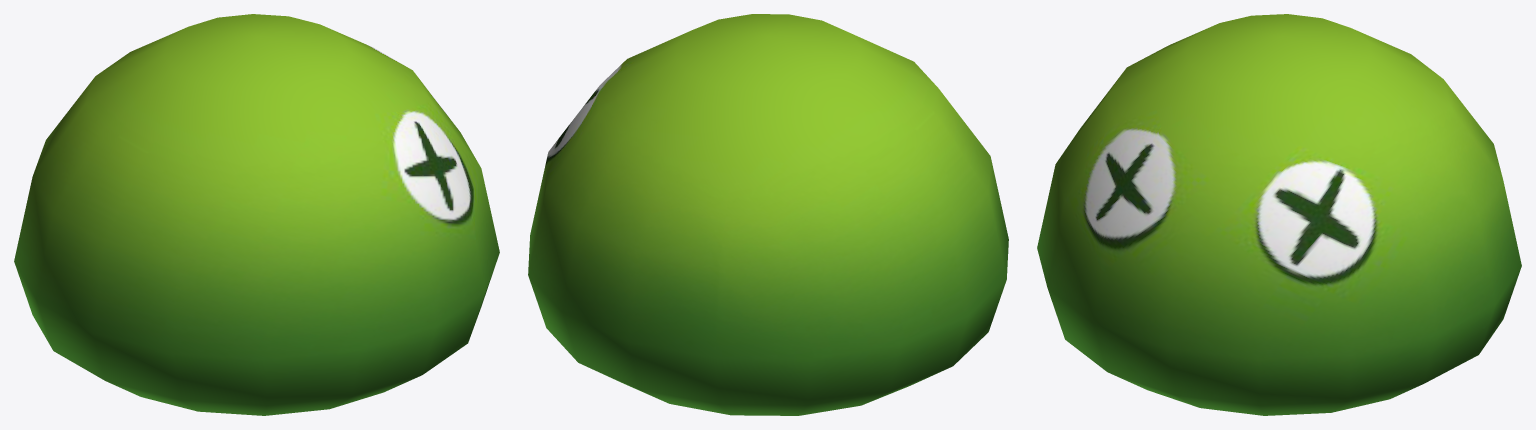
File: Green Head_Model.FBX
3 renders of one model, left to right at view 1: azimuth 30°, elevation 25°; view 2: azimuth 150°, elevation 25°; view 3: azimuth 270°, elevation 25°, orthographic.
Parts seen in each view (by area): view 1: Object205; view 2: Object205; view 3: Object205.
Part boxes in pixels (left/top/right/bottom): Object205: left=14, top=14, right=499, bottom=415; Object205: left=528, top=14, right=1008, bottom=415; Object205: left=1037, top=14, right=1521, bottom=415.
Bounding box in the file's own units: 151 × 115 × 151.
1 material, 1 textured.
